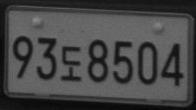0: (136, 41, 158, 85)
3: (35, 36, 58, 80)
4: (160, 42, 184, 86)
5: (112, 41, 133, 84)
8: (87, 38, 108, 82)
9: (11, 34, 32, 79)
도: (59, 45, 81, 82)
